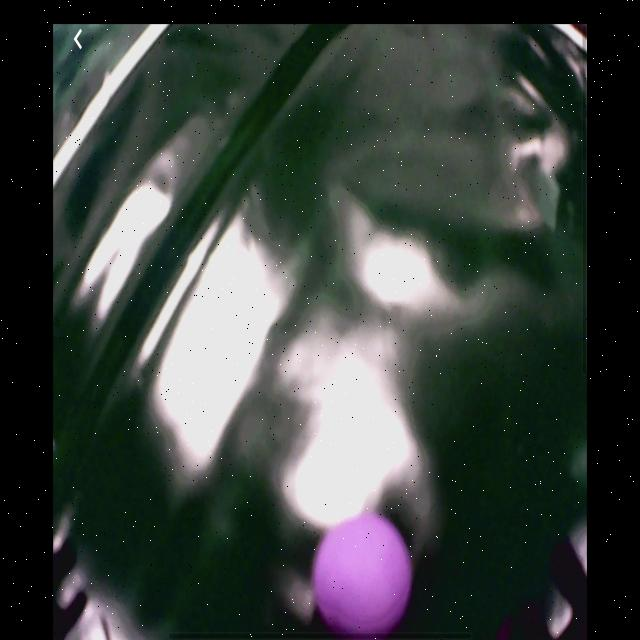ball: (313, 513, 412, 637)
